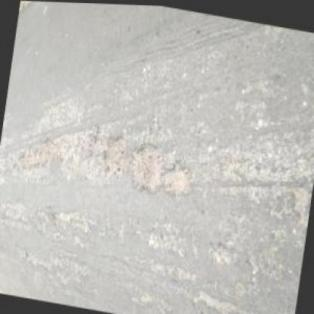Hueco: (18, 130, 71, 176), (125, 136, 166, 195), (100, 130, 130, 182), (159, 157, 197, 198), (189, 285, 240, 313), (287, 180, 312, 216), (208, 240, 236, 267)
